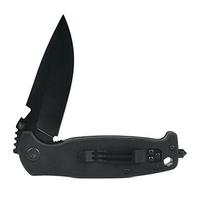knife: (7, 15, 181, 180), (11, 10, 86, 177)
